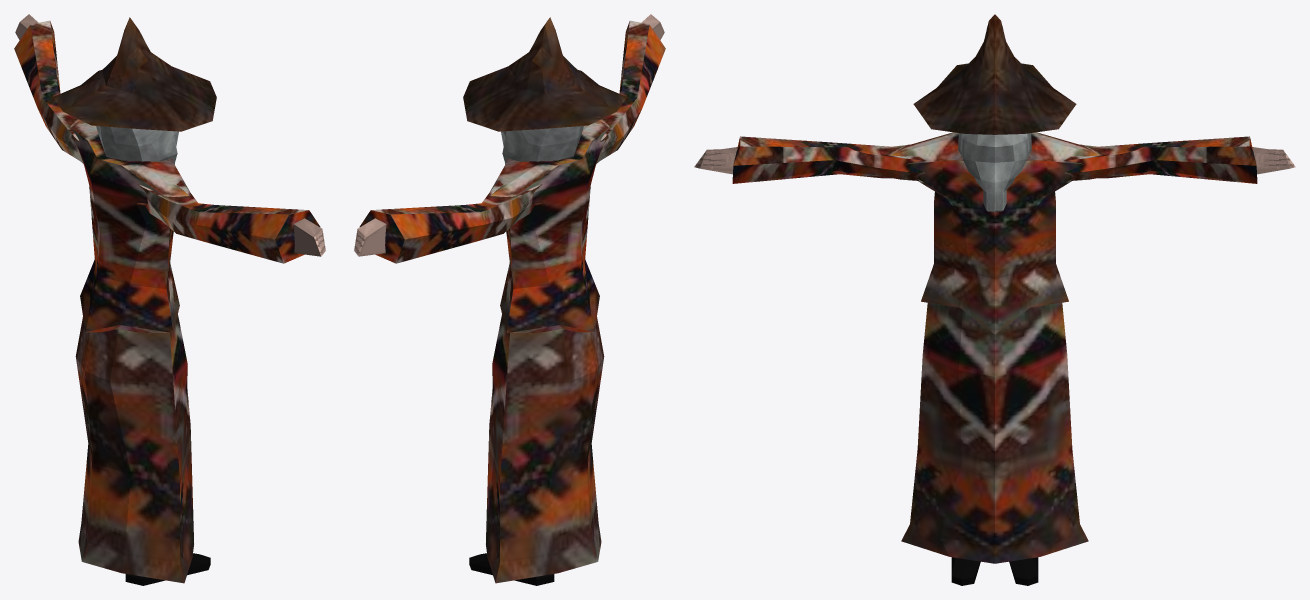
Rendered from wizard.fbx.
3 renders of one model, left to right at view 1: azimuth 30°, elevation 25°; view 2: azimuth 150°, elevation 25°; view 3: azimuth 270°, elevation 25°, orthographic.
Parts seen in each view (by area): view 1: Skrit, Torso, Arm, Hat, Beard, Hand, Foot; view 2: Skrit, Torso, Arm, Hat, Beard, Hand, Foot; view 3: Skrit, Torso, Arm, Hat, Beard, Hand, Foot.
Boxes of the visible parts, <box> form: Skrit: <box>75,314,193,583</box>; Torso: <box>70,119,189,332</box>; Arm: <box>14,20,320,263</box>; Hat: <box>53,17,216,131</box>; Beard: <box>96,126,178,164</box>; Hand: <box>15,14,325,256</box>; Foot: <box>125,553,210,585</box>; Skrit: <box>486,314,604,583</box>; Torso: <box>490,119,609,332</box>; Arm: <box>359,20,665,263</box>; Hat: <box>463,17,626,131</box>; Beard: <box>501,126,583,164</box>; Hand: <box>354,14,664,256</box>; Foot: <box>469,553,554,585</box>; Skrit: <box>901,303,1088,563</box>; Torso: <box>890,132,1099,334</box>; Arm: <box>732,136,1257,183</box>; Hat: <box>913,14,1076,134</box>; Beard: <box>958,133,1031,211</box>; Hand: <box>694,147,1295,174</box>; Foot: <box>951,557,1038,585</box>.
Size of the model in its own units: 264 by 945 by 952.
Materials: 7 (7 with a texture image).
